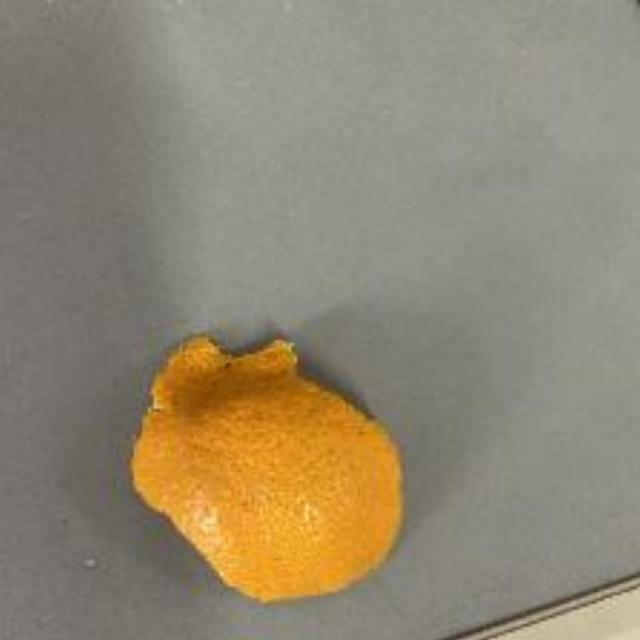orange peel: (134, 332, 398, 599)
